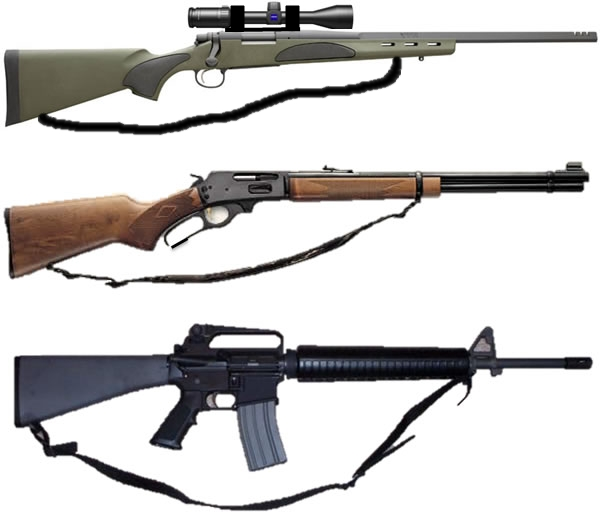Gun: (196, 297, 560, 444), (205, 122, 553, 253)
